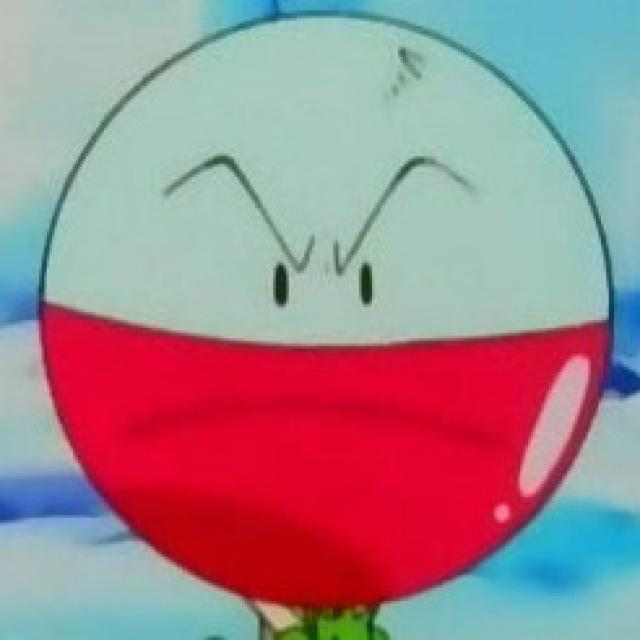Electrode: (39, 10, 608, 607)
